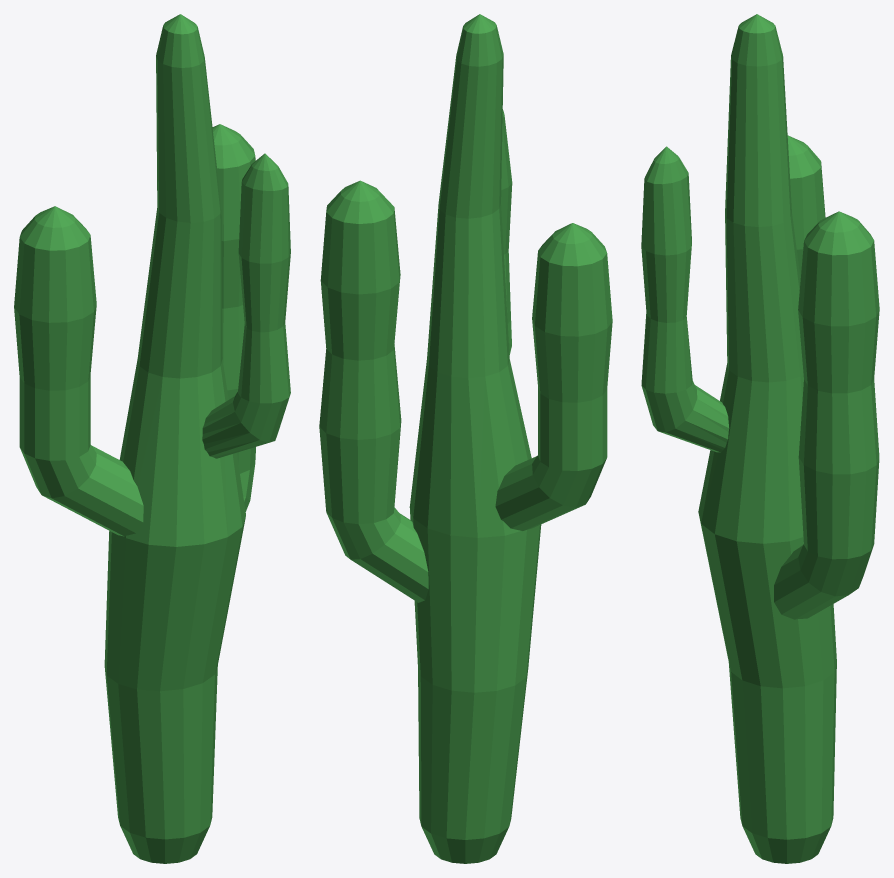
The model's file is Cactus2.fbx.
The picture shows the model from 3 angles, left to right: view 1: azimuth 30°, elevation 25°; view 2: azimuth 150°, elevation 25°; view 3: azimuth 270°, elevation 25°; orthographic projection. The views are drawn at different scales.
Visible parts, largest first — view 1: Cactus; view 2: Cactus; view 3: Cactus.
Part boxes in pixels (x1=…): Cactus: x1=14, y1=14, x2=290, y2=863; Cactus: x1=319, y1=14, x2=612, y2=863; Cactus: x1=641, y1=14, x2=879, y2=863.
Bounding box in the file's own units: 128 × 400 × 102.
